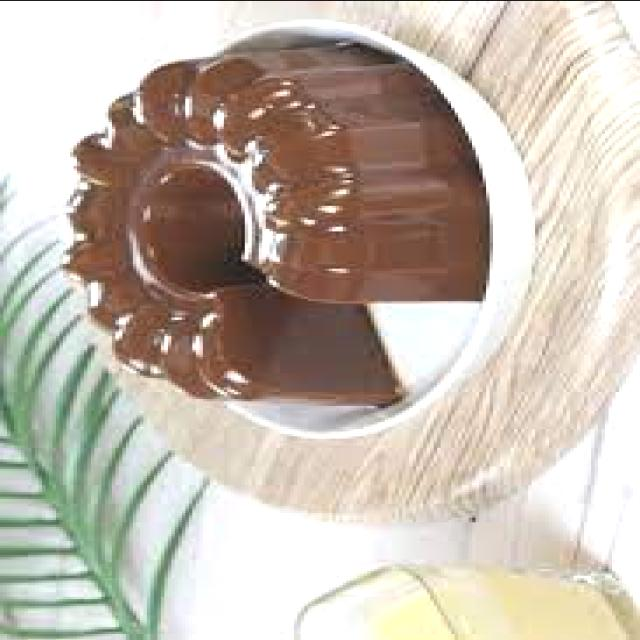puding: (63, 40, 493, 405)
